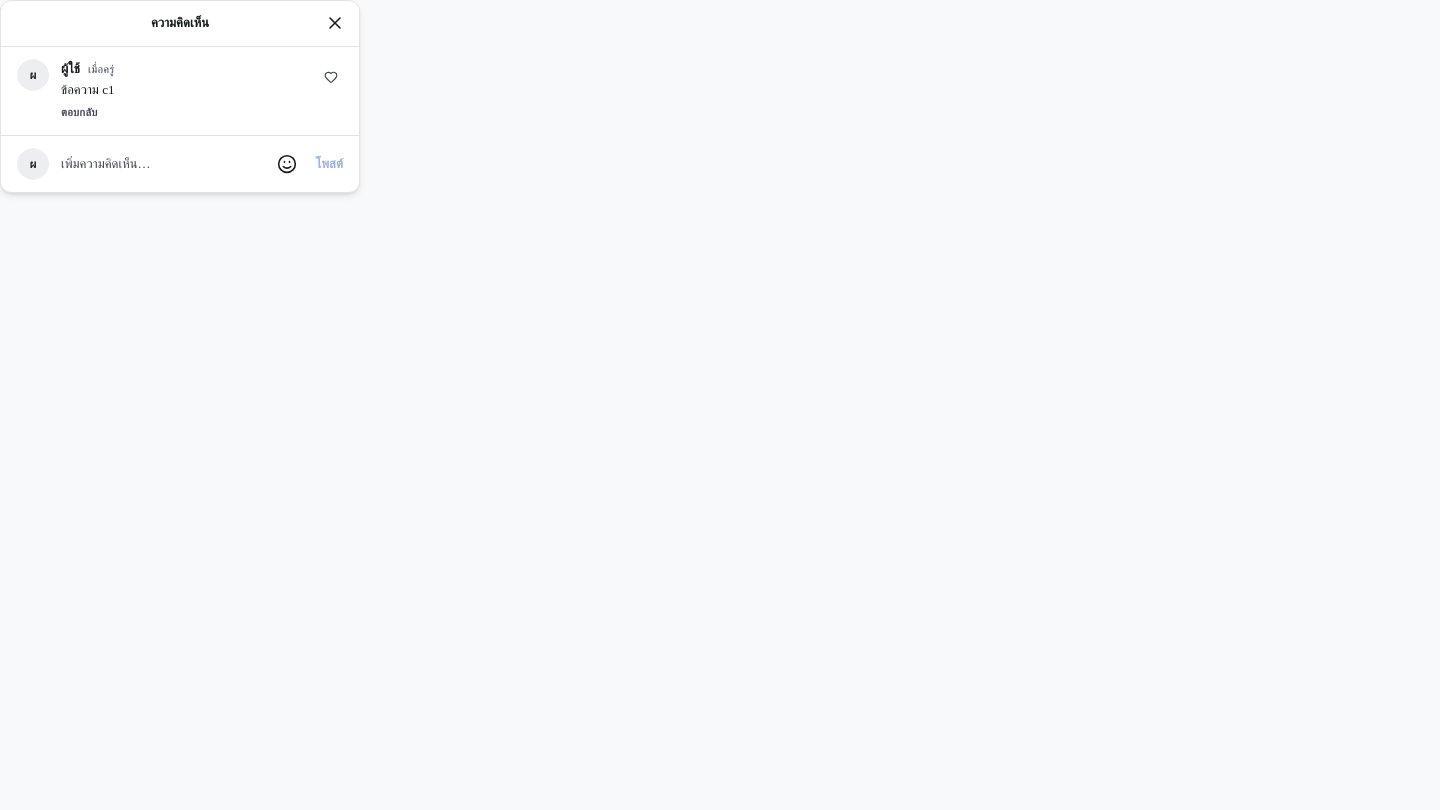
Test case: แผงความคิดเห็น › โพสต์ความคิดเห็นใหม่ขึ้นบนสุด และแจ้งหน้าแม่ +1
Expected: the text "ข้อความ c1" is shown, [61, 82, 114, 97]
In the field labelled "เพิ่มความคิดเห็น": (160, 164) [61, 154, 260, 174], type "ใหม่ล่าสุด"
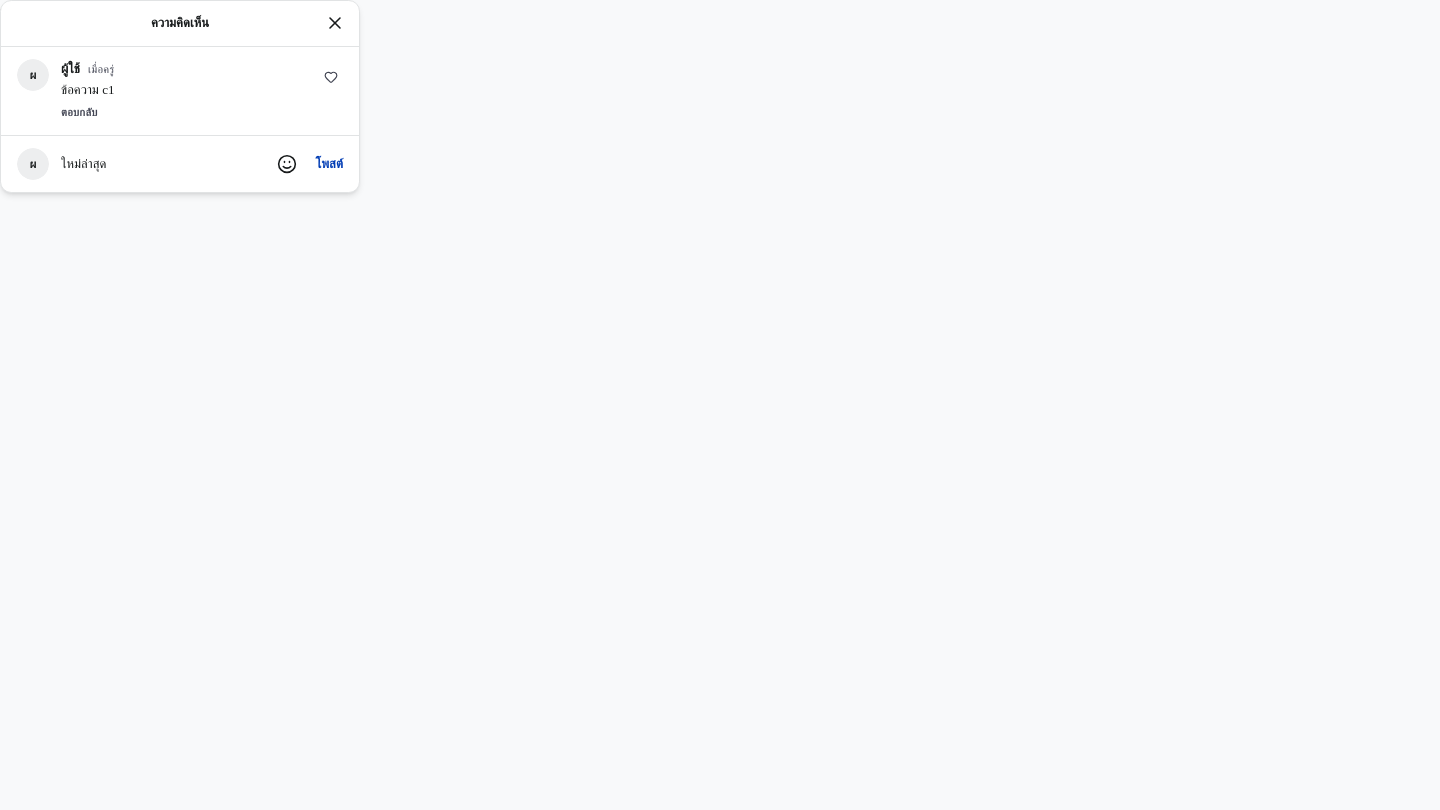
Click the button "โพสต์": (329, 164) [316, 154, 343, 174]
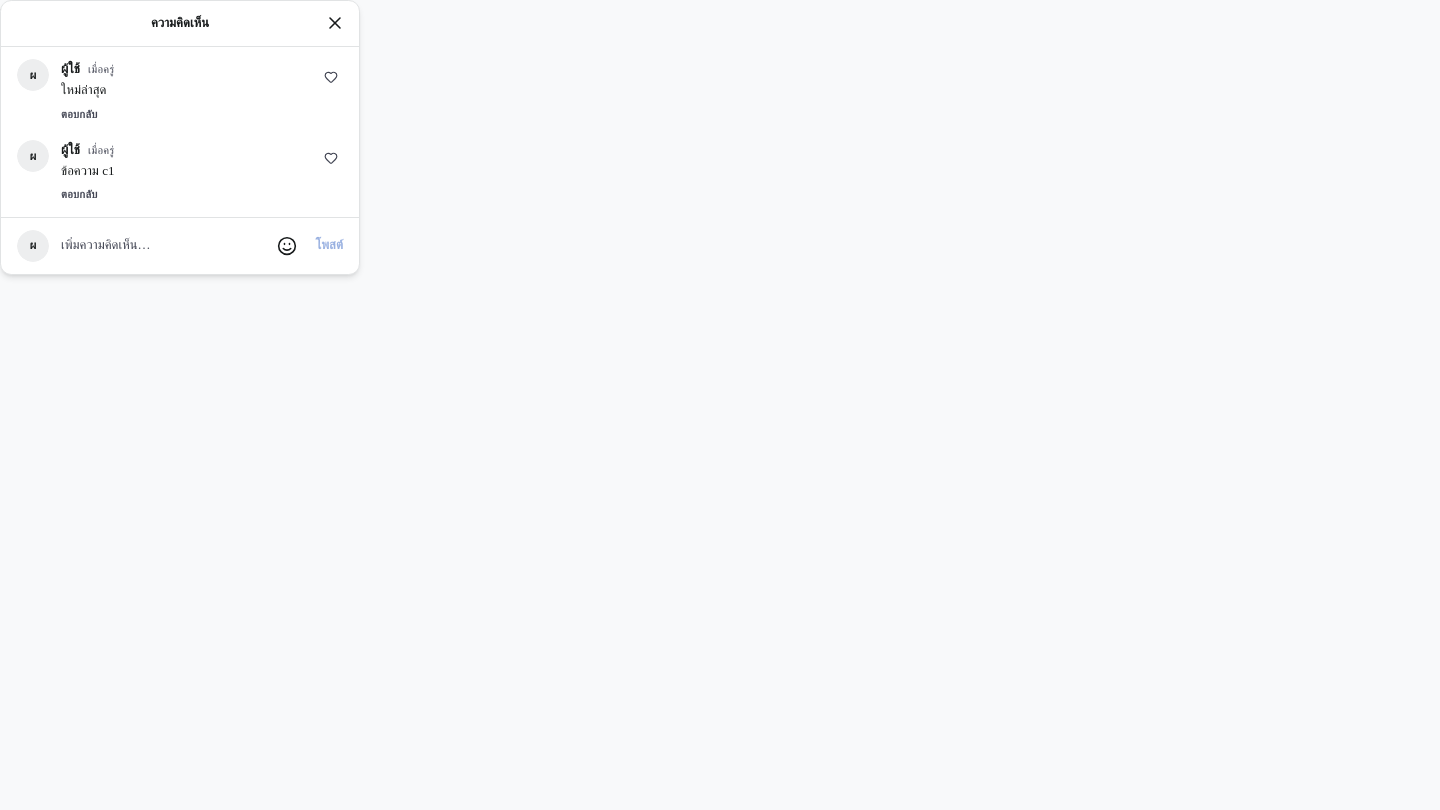
Result: the text "ใหม่ล่าสุด" is shown at [61, 82, 106, 97]
